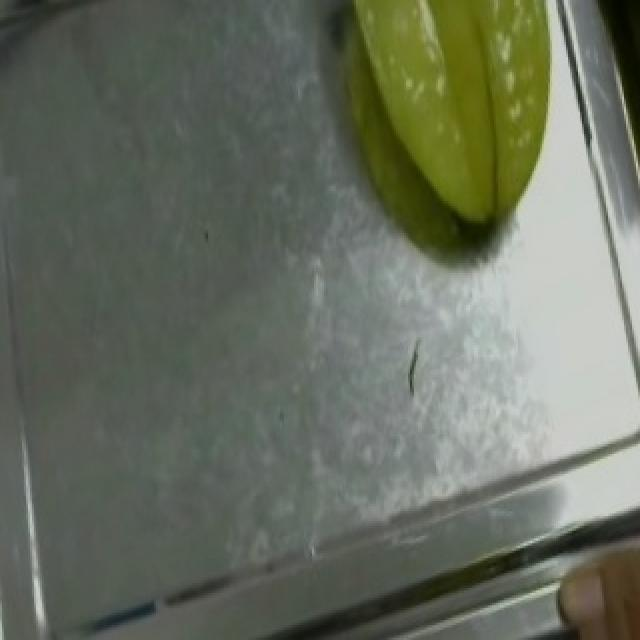fruit: (310, 0, 620, 251)
